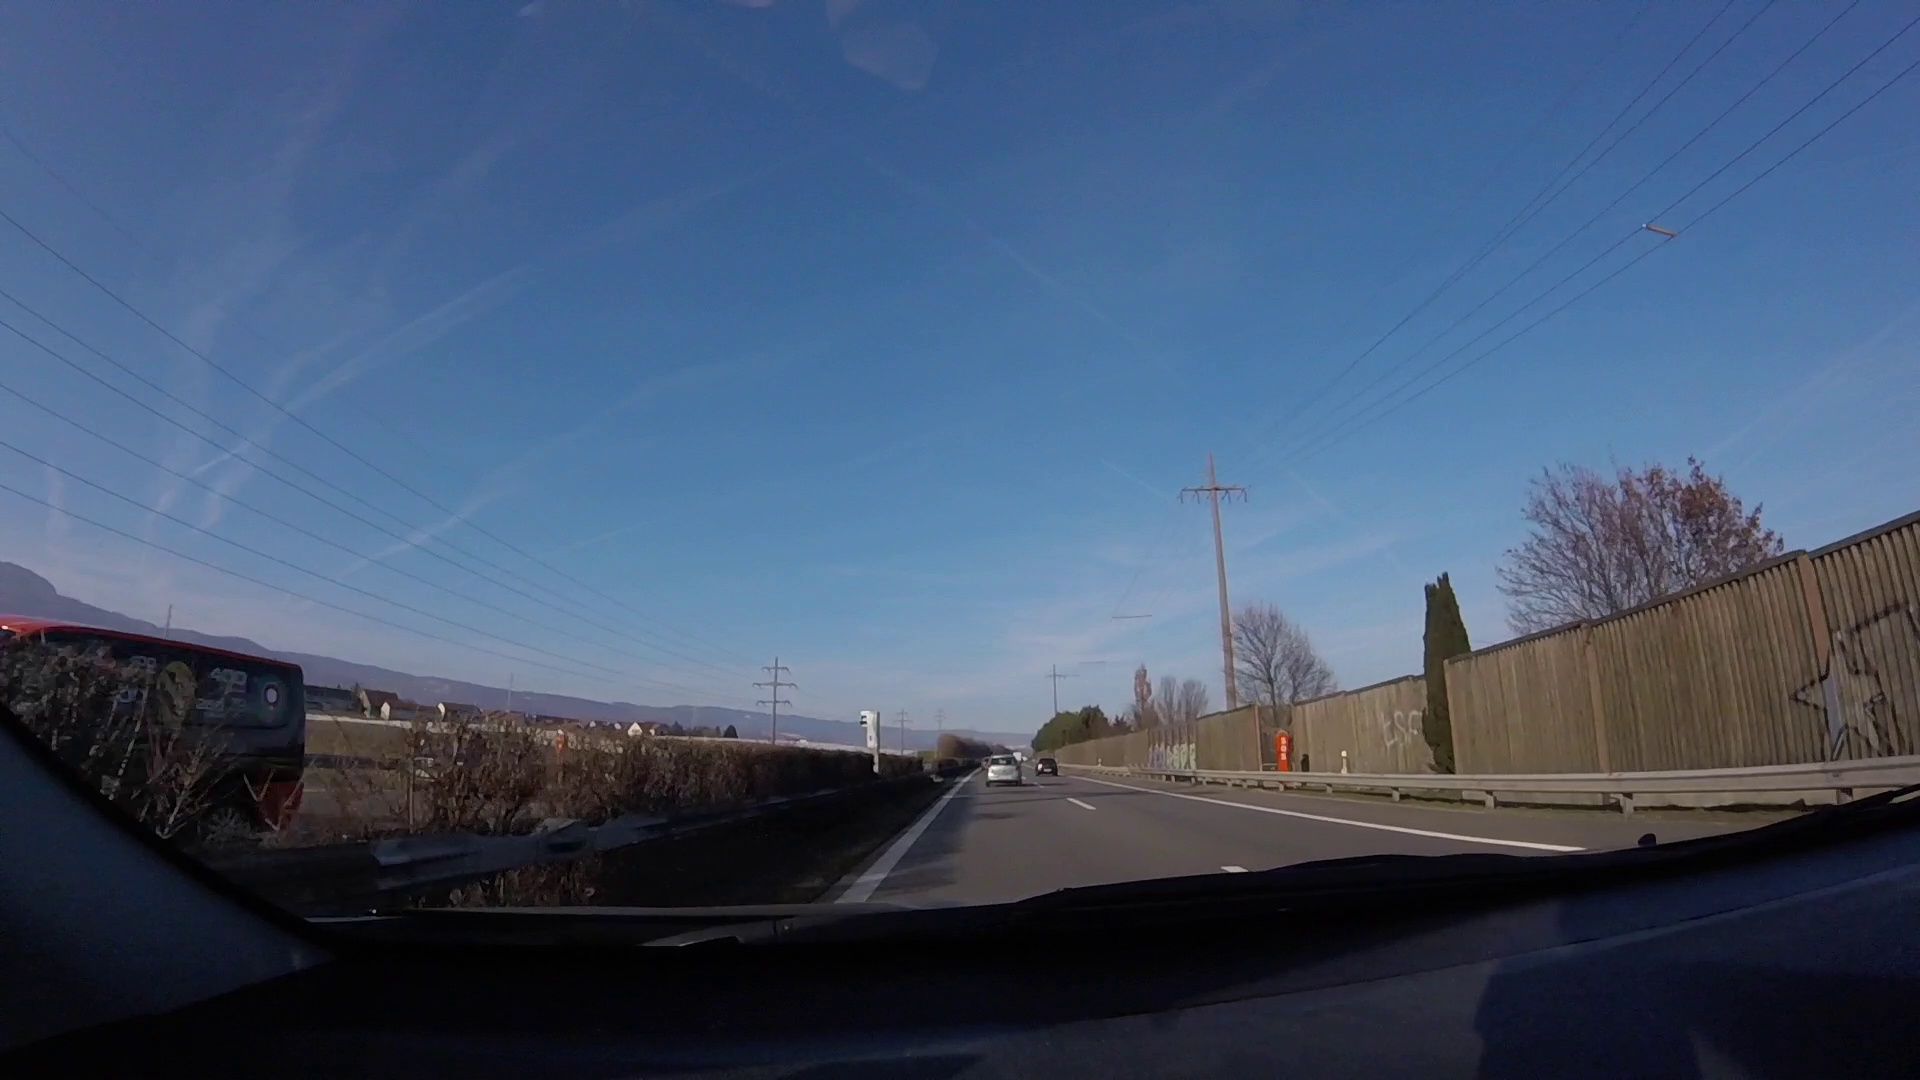radar: (858, 709, 884, 777)
